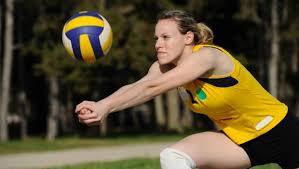ball: (61, 11, 114, 65)
